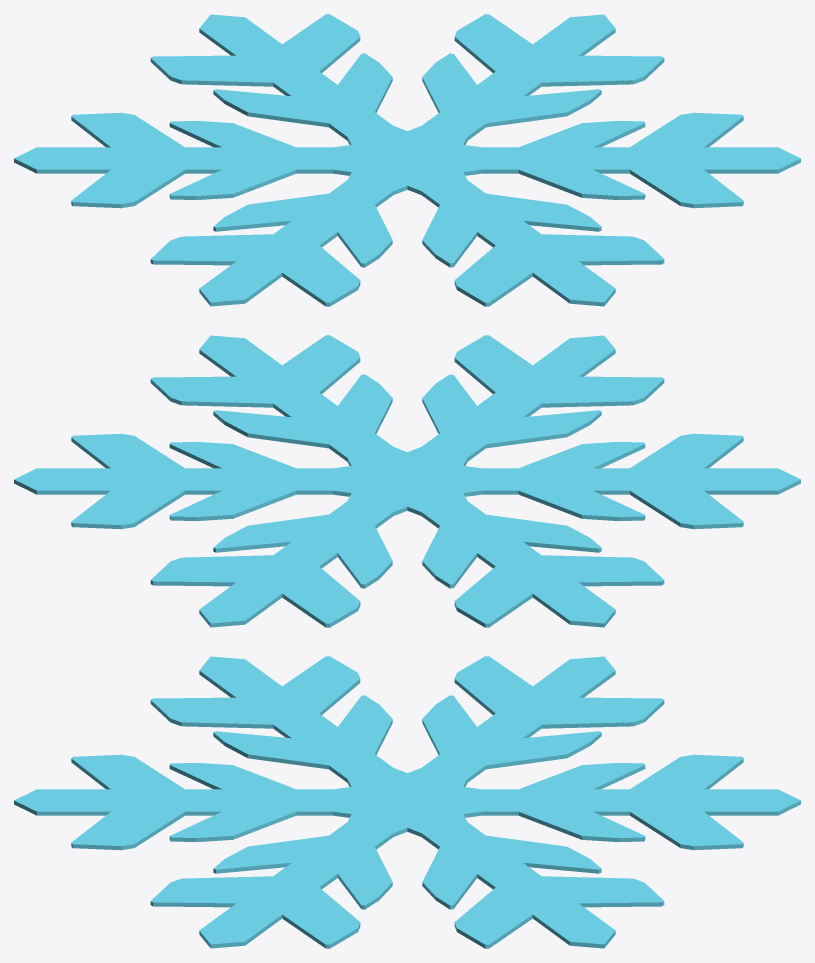
The model's file is Fulg1.obj.
3 renders of one model, top to bottom at view 1: azimuth 30°, elevation 25°; view 2: azimuth 150°, elevation 25°; view 3: azimuth 270°, elevation 25°, orthographic.
Parts seen in each view (by area): view 1: Plane; view 2: Plane; view 3: Plane.
Part boxes in pixels (<box>): Plane: <box>14,14,800,306</box>; Plane: <box>14,335,800,627</box>; Plane: <box>14,656,800,948</box>.
Size of the model in its own units: 1.29 by 0.00843 by 1.49.
